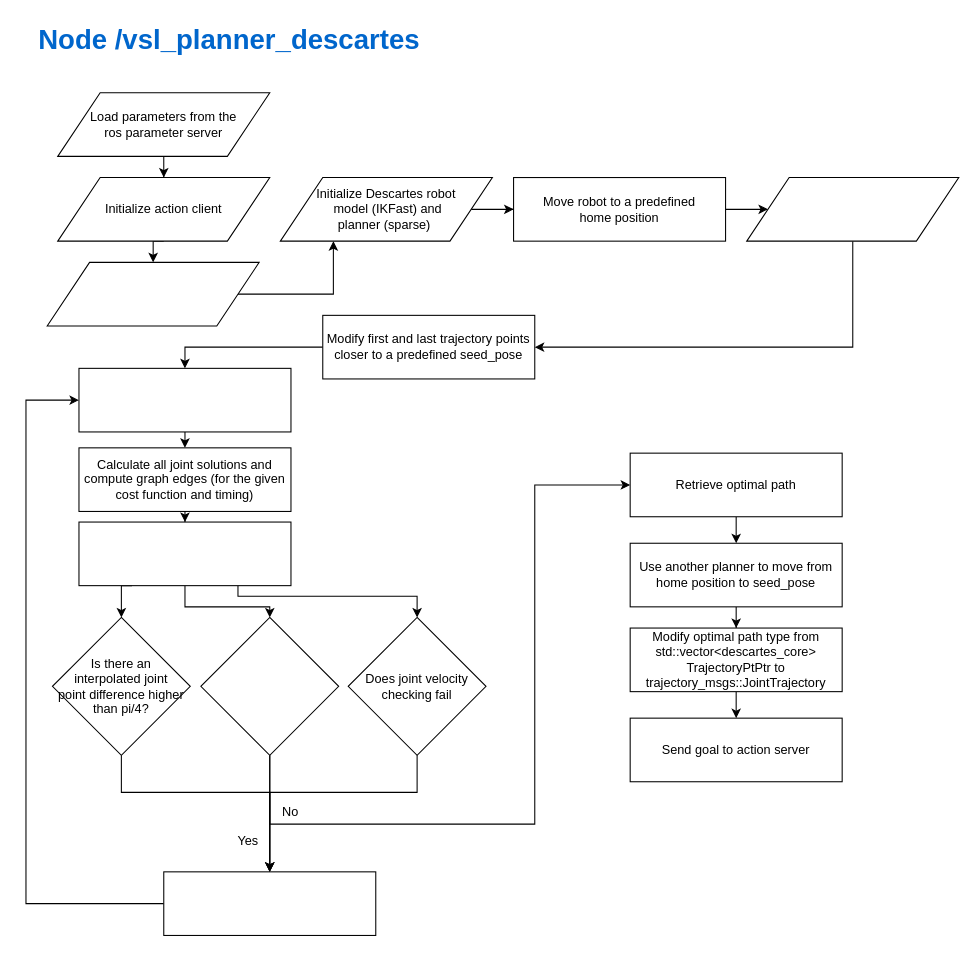
The diagram is 977 pixels wide and 954 high, and some of its shapes have lost their labels. The shapes that lost their labels are listed below. From the top down, each one's centre as x and y in pixels, then its label:
[852,208]: Initialize Trajectory Points as AxialSymmetricPt in the Z-Axis
[152,293]: Get course points from server
[184,399]: Sample trajectory points
[184,553]: Interpolate the remaining joint points
[269,685]: Is there an interpolated joint not found
[269,903]: Add new point to the sparse trajectory
